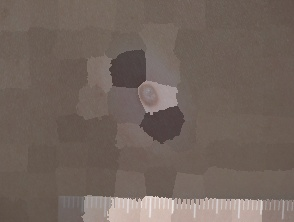vitiligo: (83, 28, 224, 178)
